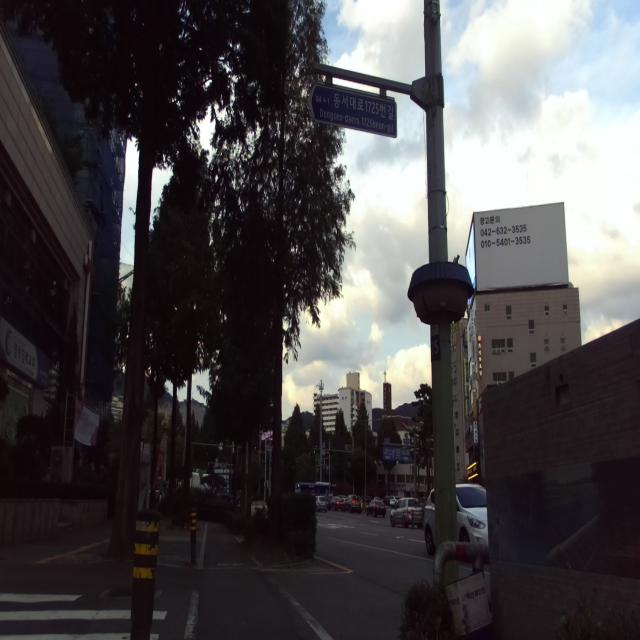횡단보도: (0, 592, 168, 640)
